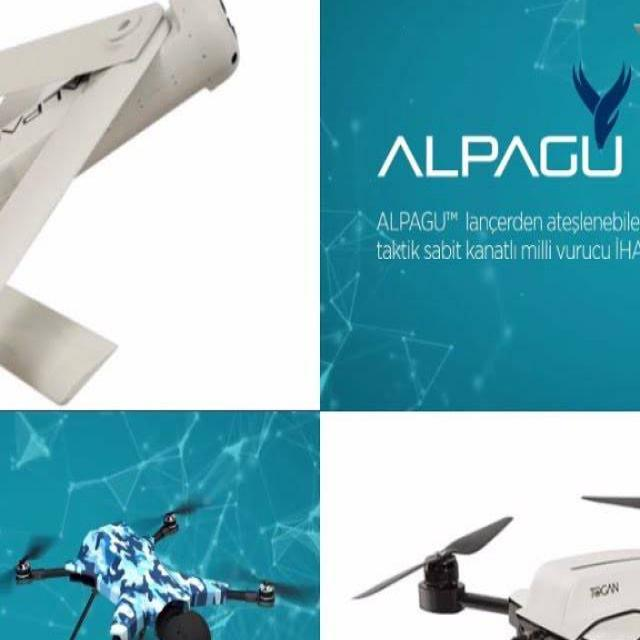drone: (348, 461, 640, 640), (0, 486, 315, 640)
